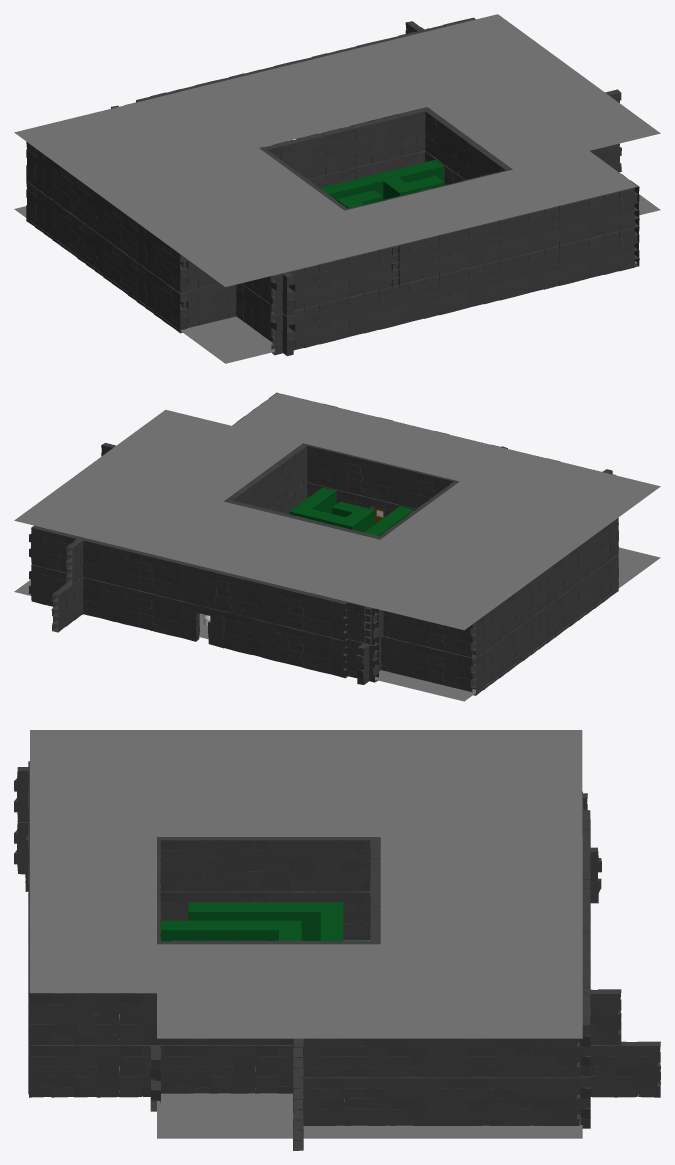
File: Castle.fbx
The picture shows the model from 3 angles, top to bottom: view 1: azimuth 30°, elevation 25°; view 2: azimuth 150°, elevation 25°; view 3: azimuth 270°, elevation 25°; orthographic projection. The views are drawn at different scales.
Parts seen in each view (by area): view 1: Plane.002, Cube.121, Cube.022, Cube.099, Plane, Cube.100, Cube.010, Cube.133, Cube, Cube.009, Cube.143, Cube.134 (+9 smaller); view 2: Plane.002, Cube.086, Cube.001, Cube.057, Cube.055, Cube.088, Cube.077, Cube.094, Cube.072, Cube.142, Plane, Cube.056 (+21 smaller); view 3: Plane.002, Cube.029, Plane, Cube.114, Cube.047, Cube.096, Cube.129, Cube.050, Cube.058, Cube.093, Cube.048, Cube.128 (+15 smaller).
Boxes of the visible parts, box(x1,y1,x2,y2) form: Plane.002: box(14, 14, 660, 286); Cube.121: box(270, 188, 637, 315); Cube.022: box(270, 228, 637, 355); Cube.099: box(340, 108, 426, 171); Plane: box(14, 194, 660, 363); Cube.100: box(263, 126, 356, 178); Cube.010: box(128, 256, 188, 333); Cube.133: box(128, 216, 188, 293); Cube: box(26, 181, 78, 257); Cube.009: box(77, 218, 129, 294); Cube.143: box(26, 142, 78, 217); Cube.134: box(77, 179, 129, 254); Plane.002: box(14, 393, 660, 630); Cube.086: box(259, 583, 347, 640); Cube.001: box(381, 636, 475, 691); Cube.057: box(259, 620, 347, 678); Cube.055: box(109, 584, 199, 641); Cube.088: box(109, 546, 198, 604); Cube.077: box(186, 566, 274, 622); Cube.094: box(29, 525, 117, 584); Cube.072: box(318, 450, 404, 505); Cube.142: box(383, 610, 475, 657); Plane: box(14, 510, 660, 701); Cube.056: box(182, 601, 261, 657); Plane.002: box(30, 730, 582, 1038); Cube.029: box(28, 1042, 292, 1097); Plane: box(74, 913, 582, 1138); Cube.114: box(28, 990, 292, 1045); Cube.047: box(303, 1075, 434, 1125); Cube.096: box(303, 1038, 434, 1077); Cube.129: box(180, 837, 319, 891); Cube.050: box(440, 1074, 580, 1125); Cube.058: box(579, 1041, 660, 1097); Cube.093: box(440, 1038, 580, 1077); Cube.048: box(424, 1077, 563, 1125); Cube.128: box(313, 837, 380, 891).
Size of the model in its own units: 6632 by 1030 by 5723.
